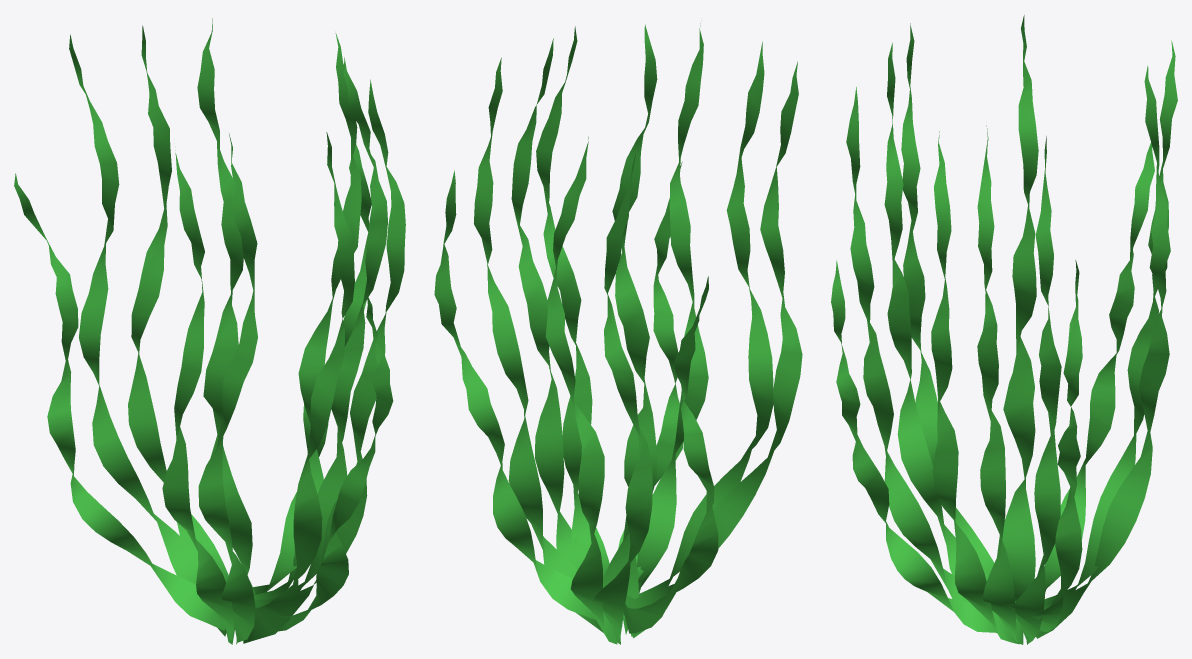
The model's file is coral_kelp_crown_B_dense_wiggle.fbx.
3 renders of one model, left to right at view 1: azimuth 30°, elevation 25°; view 2: azimuth 150°, elevation 25°; view 3: azimuth 270°, elevation 25°, orthographic. The views are drawn at different scales.
Parts seen in each view (by area): view 1: coral_kelp_crown_B_dense_wiggle; view 2: coral_kelp_crown_B_dense_wiggle; view 3: coral_kelp_crown_B_dense_wiggle.
Boxes of the visible parts, x1,y1,x2,y2 form: coral_kelp_crown_B_dense_wiggle: [14, 18, 405, 644]; coral_kelp_crown_B_dense_wiggle: [434, 23, 802, 644]; coral_kelp_crown_B_dense_wiggle: [831, 15, 1177, 644].
Bounding box in the file's own units: 67.38 × 128 × 65.45.
